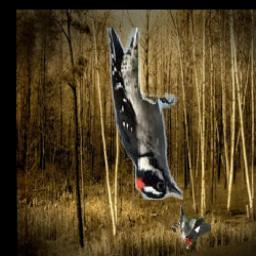Woodpecker: (108, 28, 184, 200), (172, 205, 211, 250)
